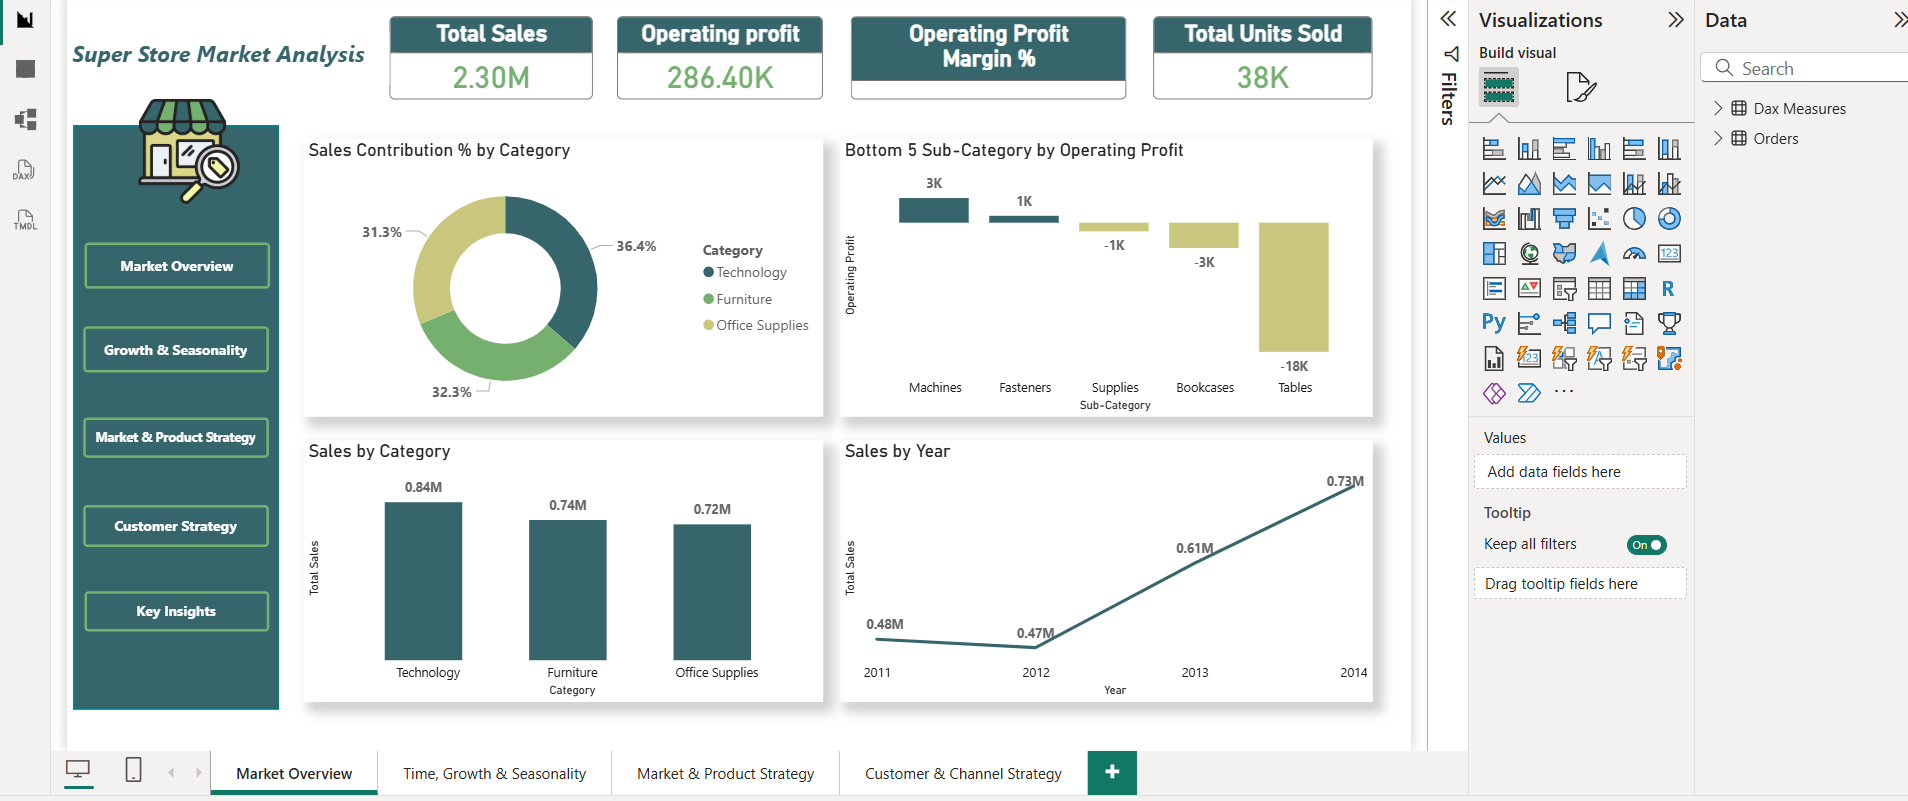

The page's visual inventory and layout, read from the dashboard file:
{"tool":"powerbi","page":{"name":"Market Overview","canvas":[1280,720],"ordinal":0},"visuals":[{"type":"card","title":"Total Sales","fields":{"Values":["Dax Measures.Total Sales"]},"box":[307.4,20.6,193.5,79.6],"z":0},{"type":"textbox","box":[0,35.7,307.4,49.4],"z":1000},{"type":"shape","box":[5.5,123.5,196.2,557.1],"z":2000},{"type":"actionButton","box":[16.5,236,177,43.9],"z":3000},{"type":"card","title":"Operating profit","fields":{"Values":["Dax Measures.Operating Profit"]},"box":[524.2,20.6,196.2,79.6],"z":4000},{"type":"card","title":"Operating Profit Margin %","fields":{"Values":["Dax Measures.Operating Profit Margin %"]},"box":[746.5,20.6,262.1,79.6],"z":5000},{"type":"card","title":"Total Units Sold","fields":{"Values":["Dax Measures.Total Units Sold"]},"box":[1034.7,20.6,208.6,79.6],"z":6000},{"type":"lineChart","title":"Sales by Year","fields":{"Category":["Orders.Order Date.Variation.Date Hierarchy.Year","Orders.Order Date.Variation.Date Hierarchy.Quarter","Orders.Order Date.Variation.Date Hierarchy.Month","Orders.Order Date.Variation.Date Hierarchy.Day"],"Y":["Dax Measures.Total Sales"]},"box":[735.5,424,507.7,249.7],"z":7000},{"type":"clusteredColumnChart","title":"Sales by Category","fields":{"Category":["Orders.Category"],"Y":["Dax Measures.Total Sales"]},"box":[225,424,495.4,249.7],"z":8000},{"type":"columnChart","title":"Bottom 5 Sub-Category by Operating Profit ","fields":{"Category":["Orders.Sub-Category"],"Y":["Dax Measures.Operating Profit"]},"box":[735.5,137.2,507.7,264.8],"z":9000},{"type":"donutChart","title":"Sales Contribution % by Category","fields":{"Category":["Orders.Category"],"Y":["Dax Measures.Total Sales"]},"box":[225,137.2,495.4,264.8],"z":10000},{"type":"image","box":[60.4,85.1,111.1,129],"z":11000},{"type":"actionButton","box":[15.1,315.6,177,43.9],"z":12000},{"type":"actionButton","box":[15.1,402.1,177,38.4],"z":13000},{"type":"actionButton","box":[15.1,485.8,177,39.8],"z":14000},{"type":"actionButton","title":"Key In","box":[16.5,568.1,175.6,38.4],"z":14001}]}

Visuals, with their boxes on the page's 1280x720 design canvas (x1, y1, x2, y2). These are canvas units, not pixel positions in the 1908x801 screenshot, which may show the page scaled, cropped or inside an application window:
"Total Sales" card: (307, 21, 501, 100)
textbox: (0, 36, 307, 85)
shape: (6, 124, 202, 681)
actionButton: (16, 236, 194, 280)
"Operating profit" card: (524, 21, 720, 100)
"Operating Profit Margin %" card: (746, 21, 1009, 100)
"Total Units Sold" card: (1035, 21, 1243, 100)
"Sales by Year" lineChart: (736, 424, 1243, 674)
"Sales by Category" clusteredColumnChart: (225, 424, 720, 674)
"Bottom 5 Sub-Category by Operating Profit " columnChart: (736, 137, 1243, 402)
"Sales Contribution % by Category" donutChart: (225, 137, 720, 402)
image: (60, 85, 172, 214)
actionButton: (15, 316, 192, 360)
actionButton: (15, 402, 192, 440)
actionButton: (15, 486, 192, 526)
"Key In" actionButton: (16, 568, 192, 606)
